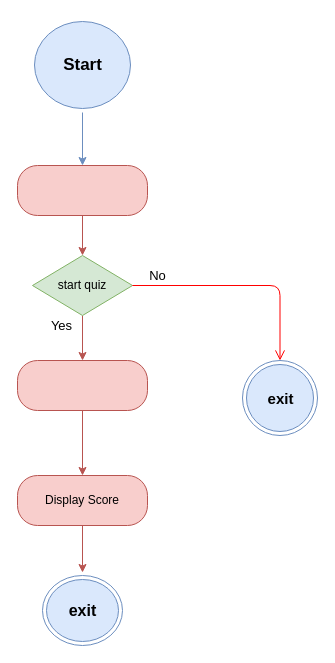
The diagram is 335 pixels wide and 663 high, and some of its shapes have lost their labels. The centre of each missing label's shape, as x and y in pixels:
"Enter name as input" goes at [82,190].
"Play" goes at [82,385].
